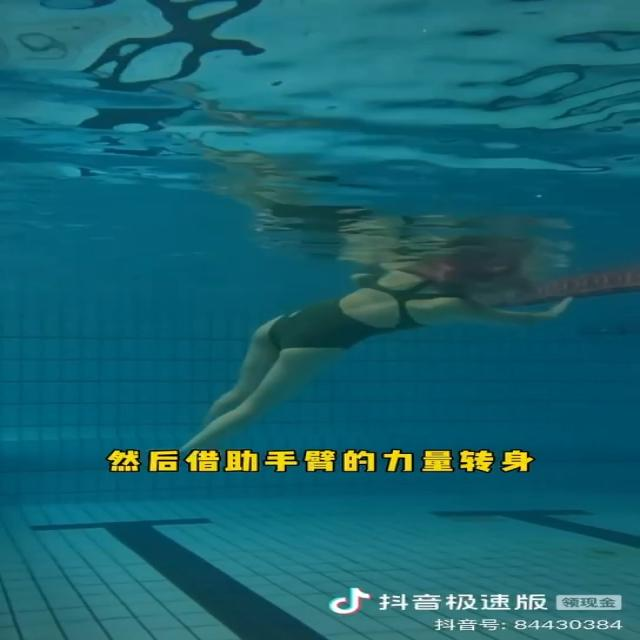Drowning: (176, 262, 580, 462)
